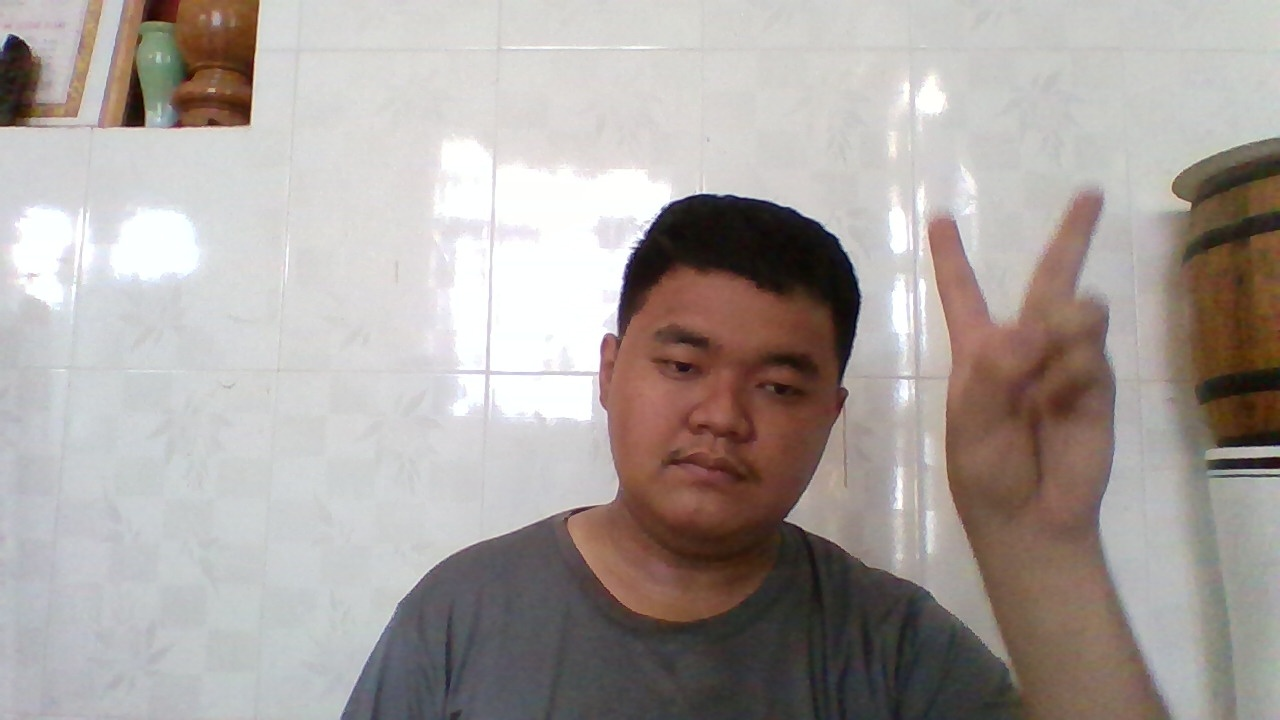V: (923, 185, 1108, 537)
